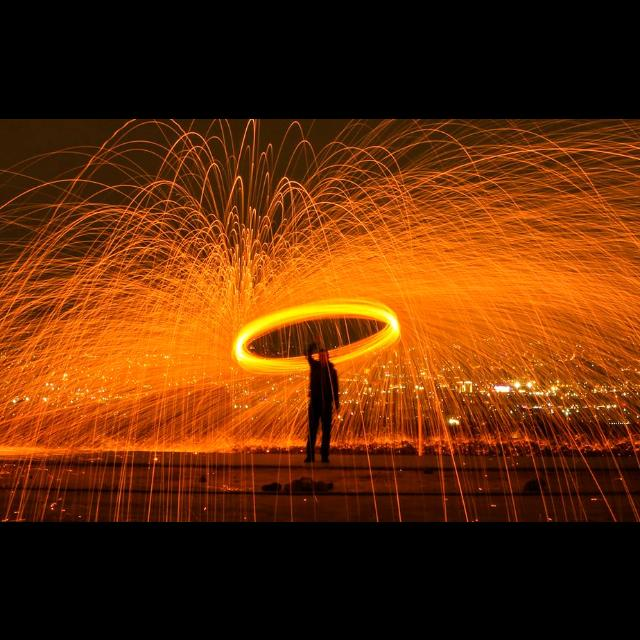fire: (0, 118, 320, 446)
